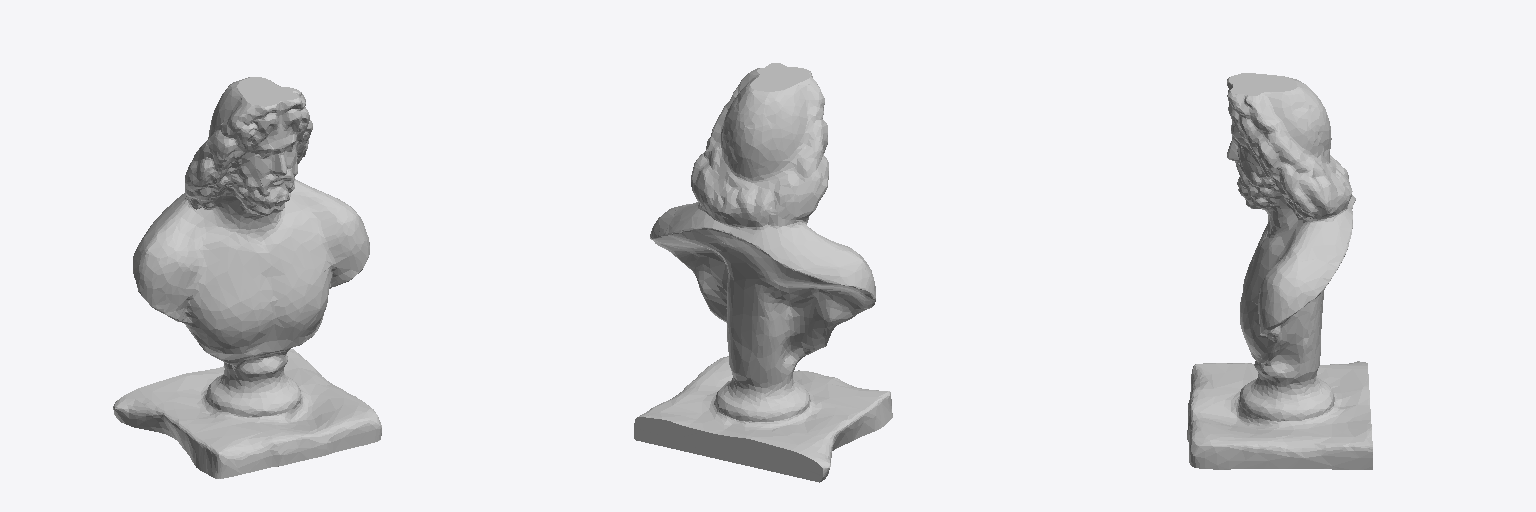
Rendered from 05zeus.obj.
The picture shows the model from 3 angles: view 1: azimuth 30°, elevation 25°; view 2: azimuth 150°, elevation 25°; view 3: azimuth 270°, elevation 25°; orthographic projection.
Visible parts, largest first — view 1: sculpt; view 2: sculpt; view 3: sculpt.
Boxes of the visible parts, <box> form: sculpt: <box>113,77,381,478</box>; sculpt: <box>634,63,892,482</box>; sculpt: <box>1187,73,1372,469</box>.
Bounding box in the file's own units: 1.51 × 2.2 × 1.08.